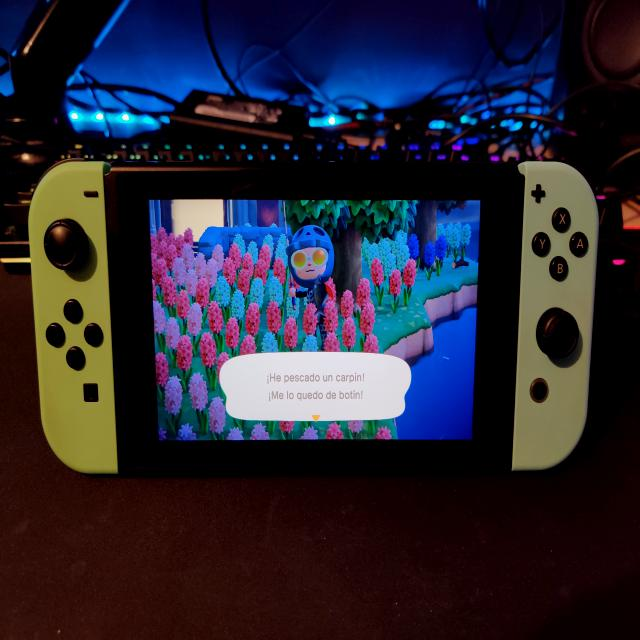text_bubble: (219, 349, 415, 425)
